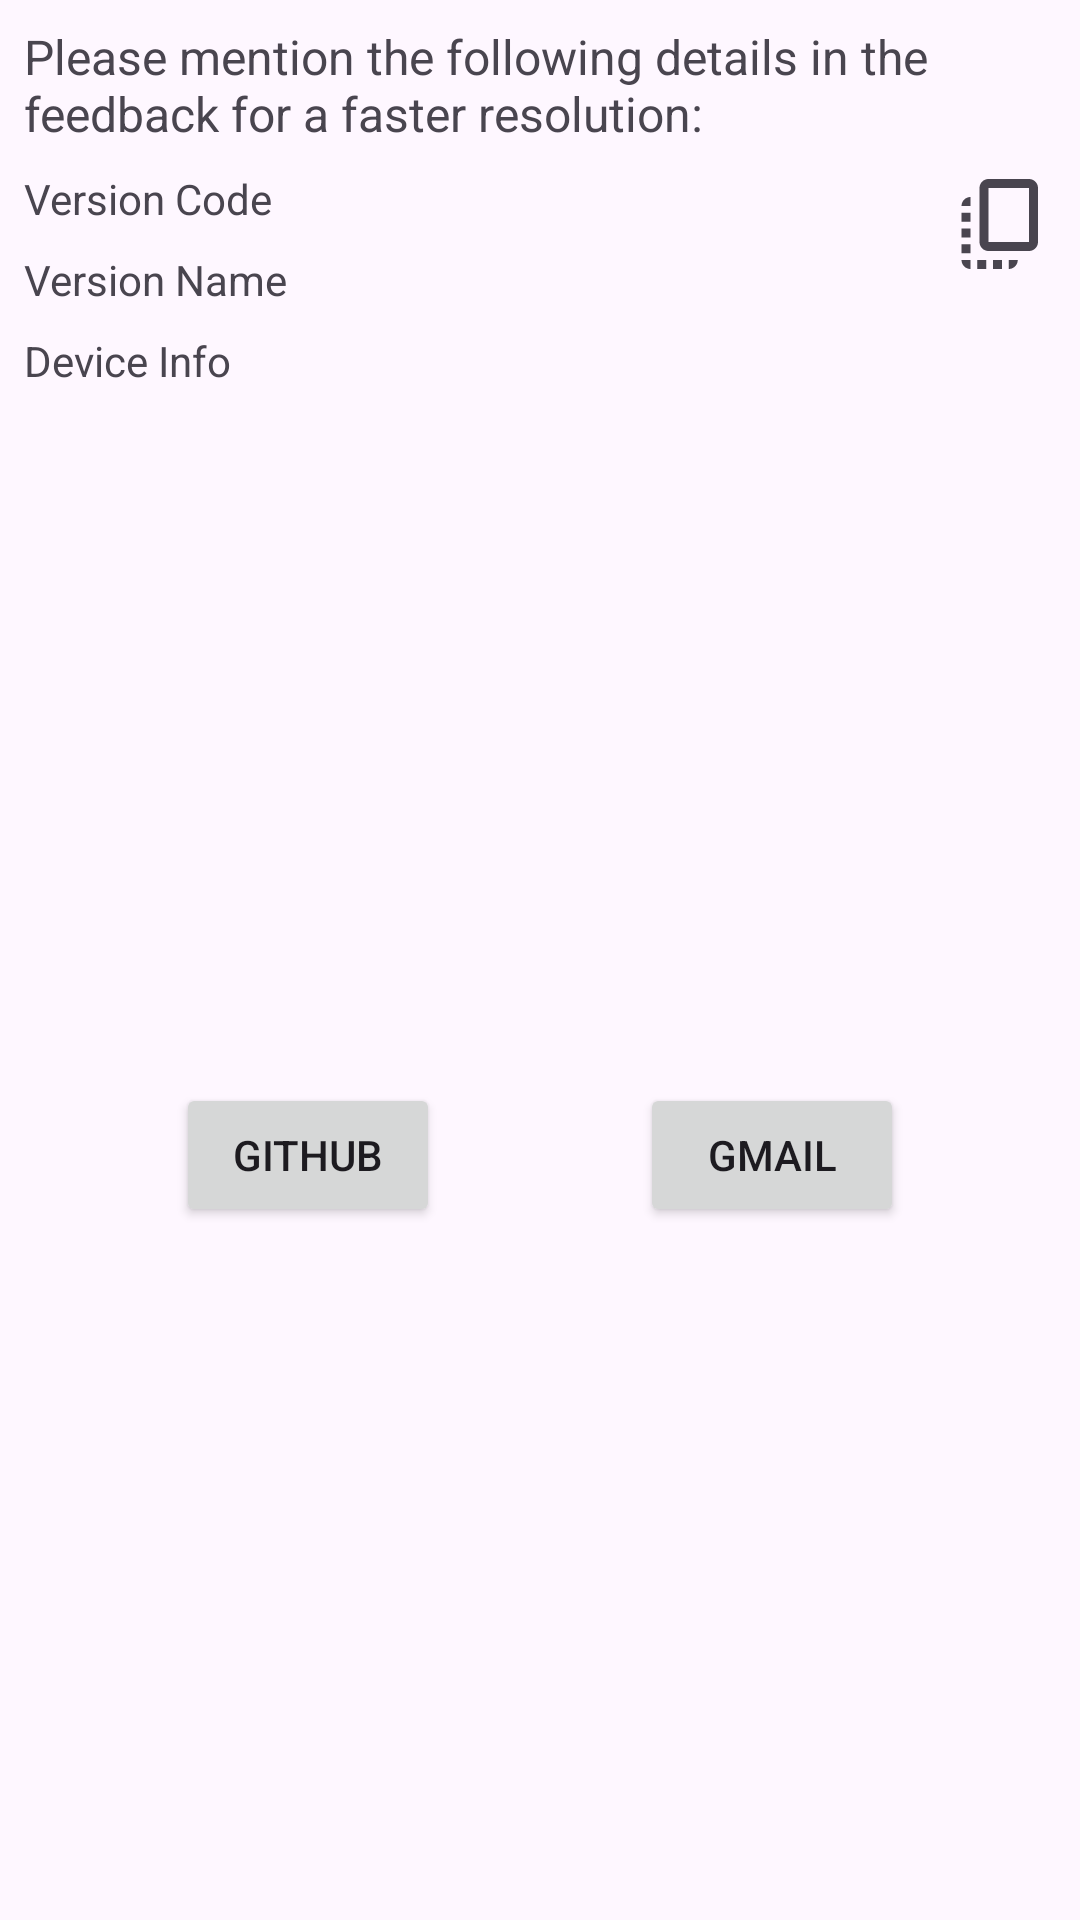

Icon bounding boxes for this 1080 x 1920 phone screenshot, format (x1, y1, x2, y2):
copy all: (961, 179, 1038, 269)
